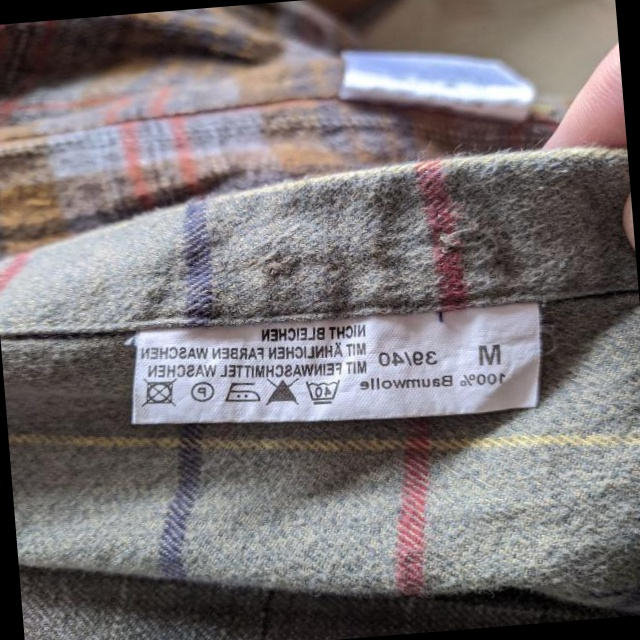40C: (303, 376, 342, 406)
DN_bleach: (260, 375, 303, 409)
DN_tumble_dry: (140, 378, 178, 409)
dry_clean_any_solvent_except_trichloroethylene: (188, 380, 217, 405)
iron_medium: (220, 378, 263, 407)
